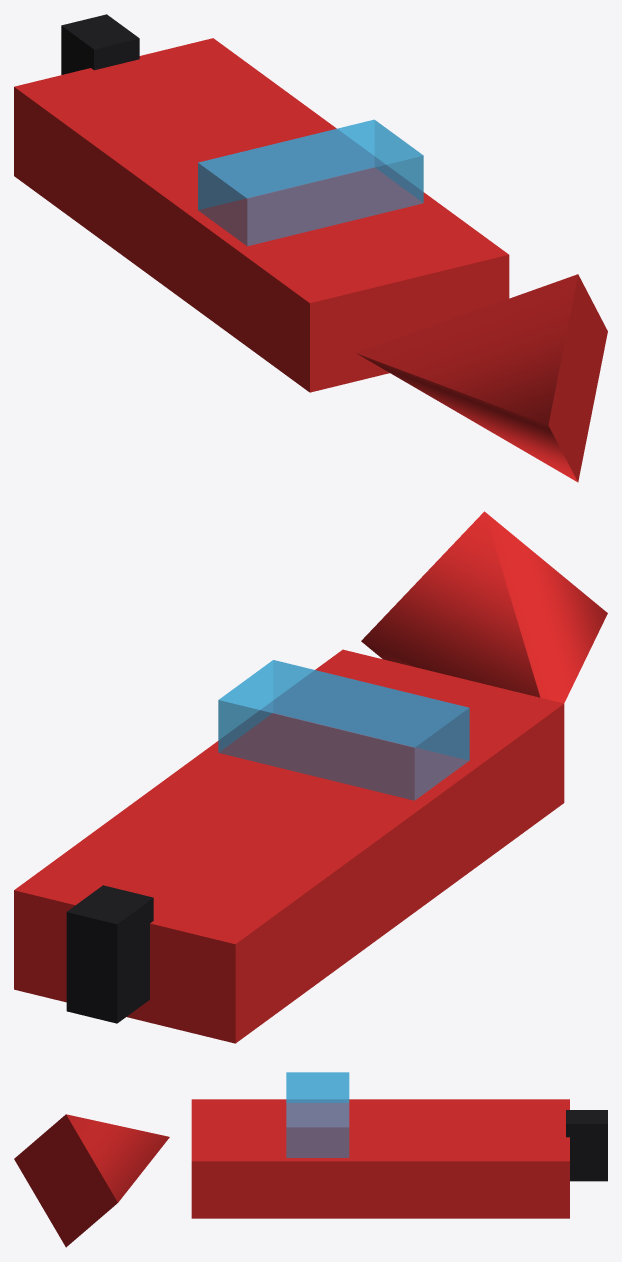
Rendered from motorboat.glb.
The picture shows the model from 3 angles, top to bottom: view 1: azimuth 30°, elevation 25°; view 2: azimuth 150°, elevation 25°; view 3: azimuth 270°, elevation 25°; orthographic projection. The views are drawn at different scales.
Size of the model in its own units: 0.2991 by 0.2478 by 1.
